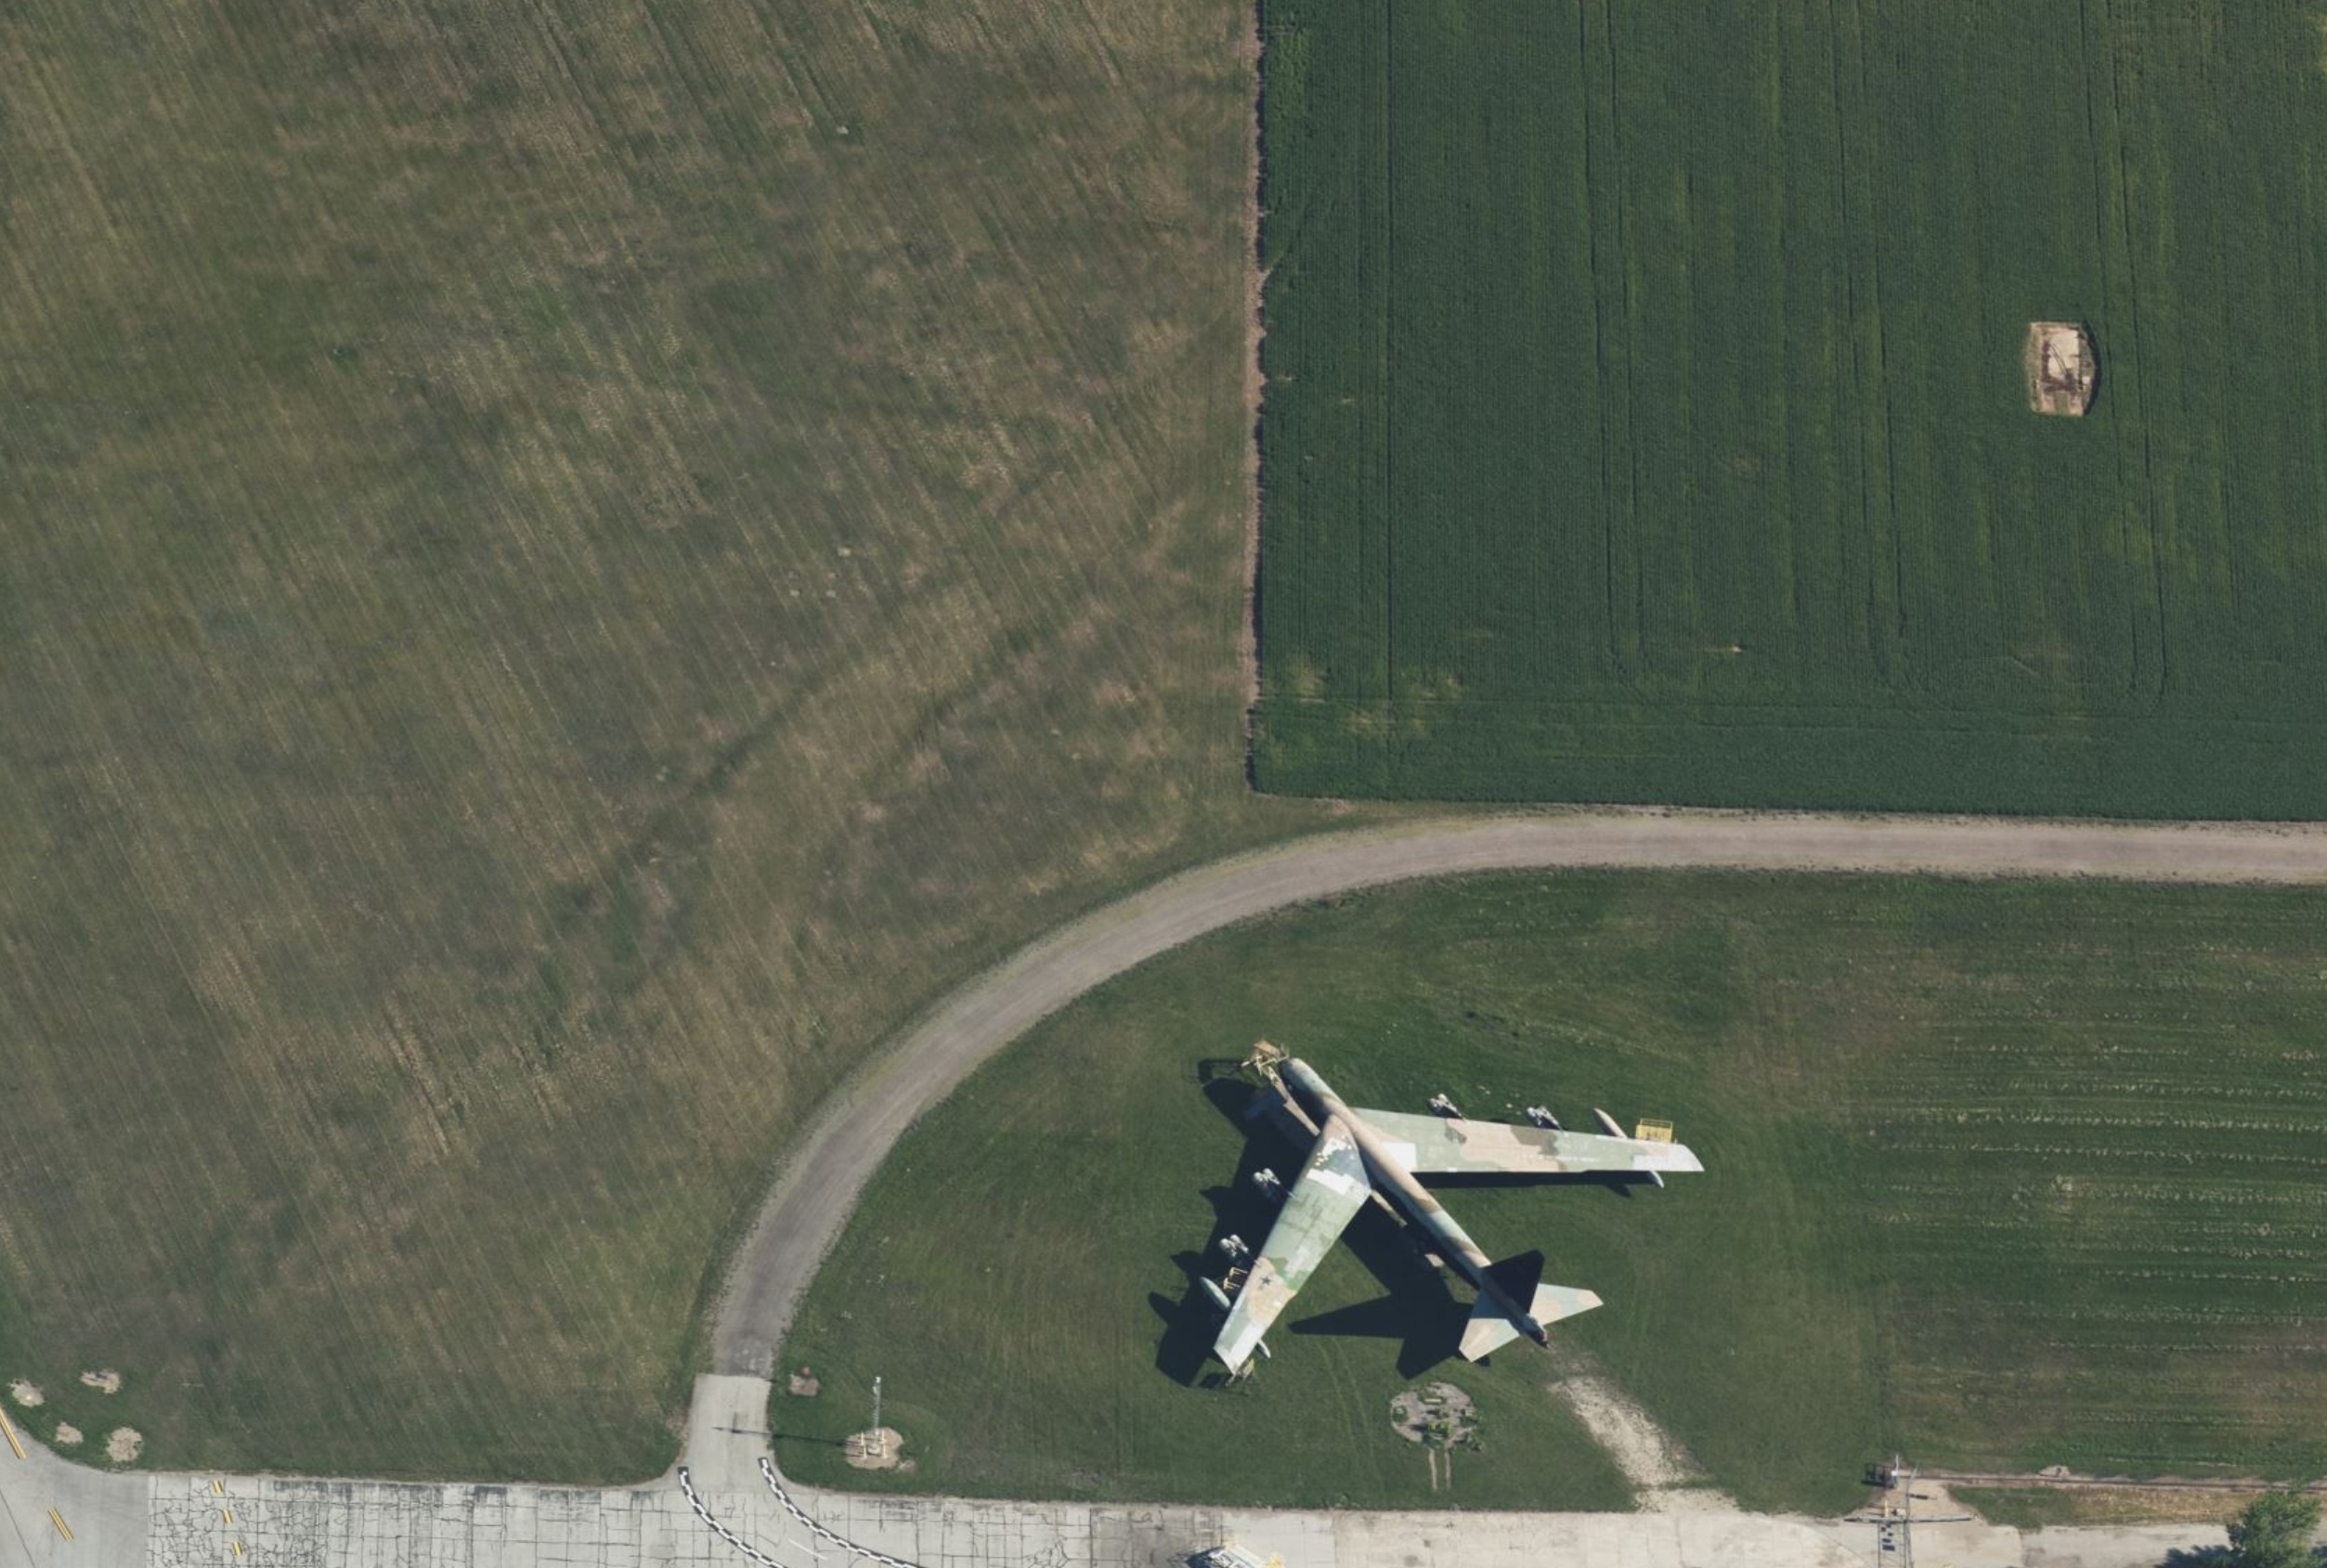B52: (1198, 1057, 1704, 1375)
